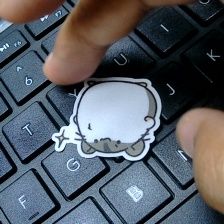mouse: (54, 73, 165, 164)
